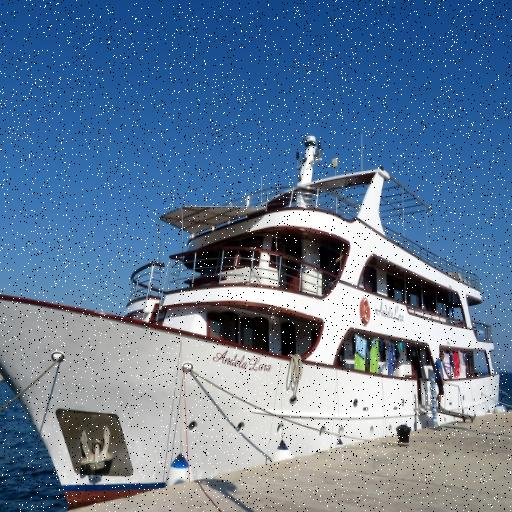cruises: (1, 133, 504, 510)
